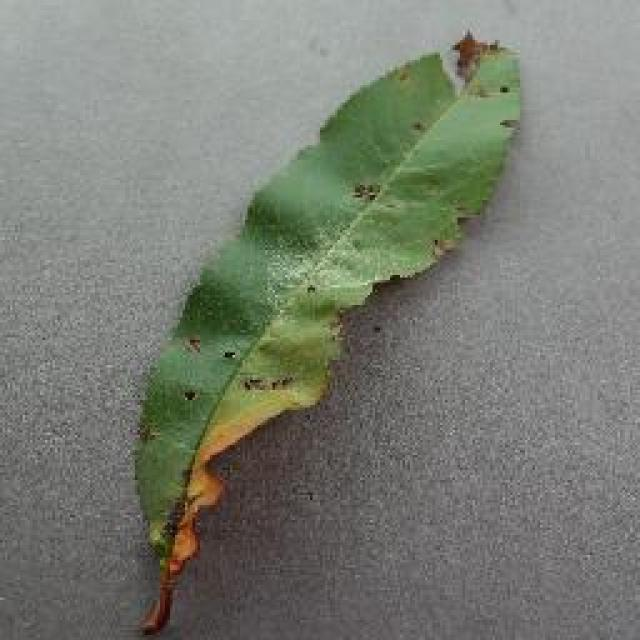Peach_Bacterial_Spot: (164, 162, 518, 398)
